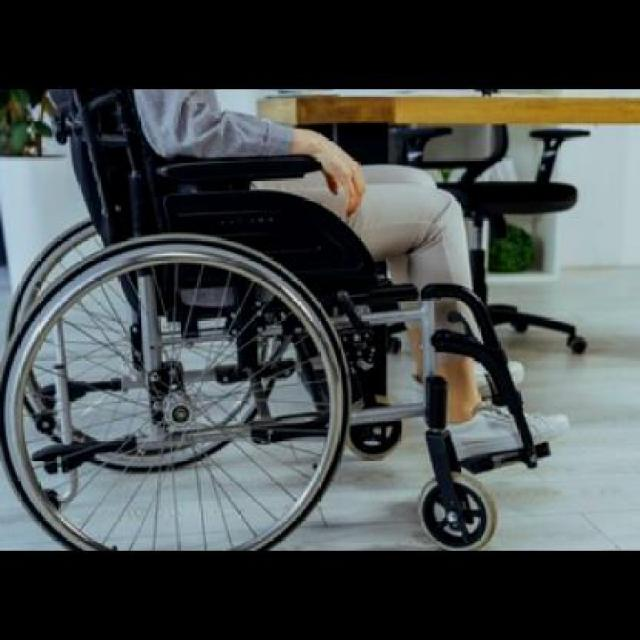wheelchairs: (9, 93, 551, 538)
